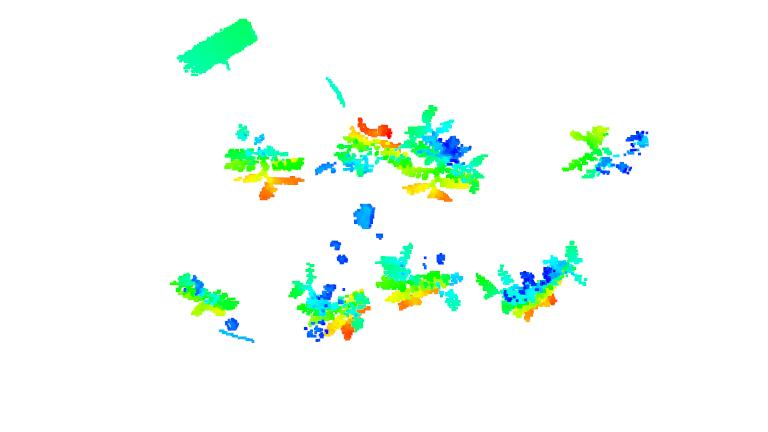chickpea: (472, 240, 587, 323), (395, 103, 488, 204), (220, 119, 305, 203), (285, 264, 372, 342), (375, 240, 465, 314), (312, 115, 413, 179), (559, 124, 648, 182), (166, 273, 239, 319)
